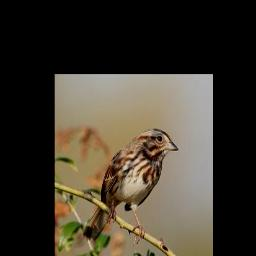Sparrow: (82, 128, 179, 247)
